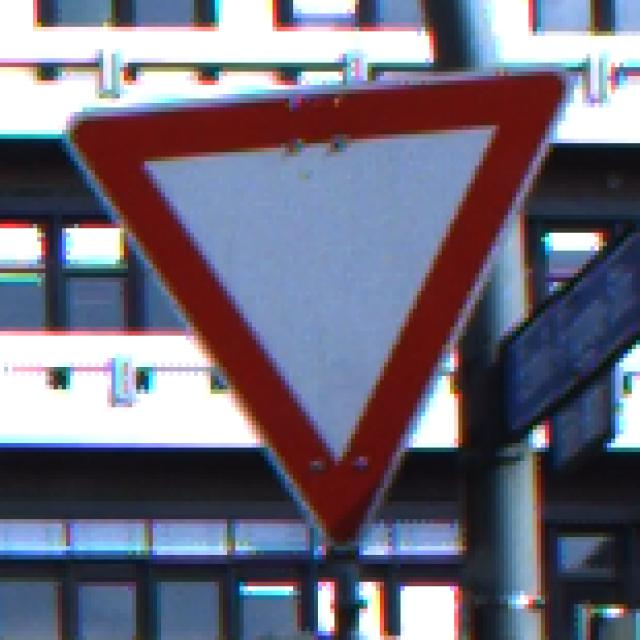Give Way: (55, 55, 587, 587)
